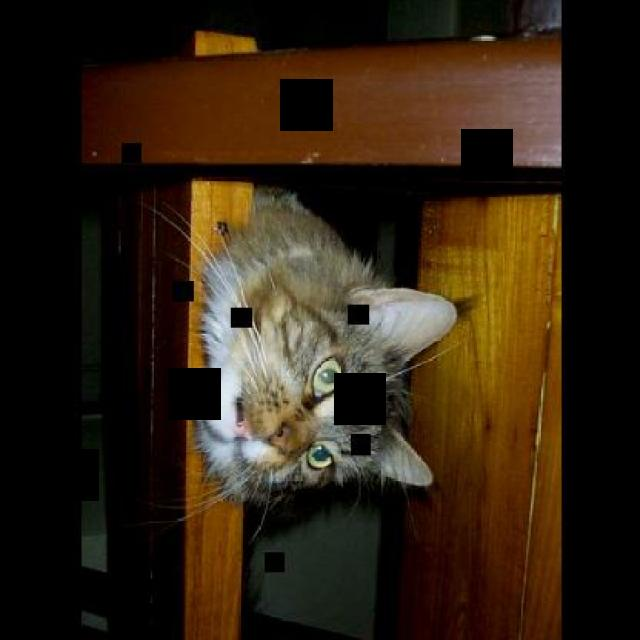unauthorized: (140, 185, 458, 543)
